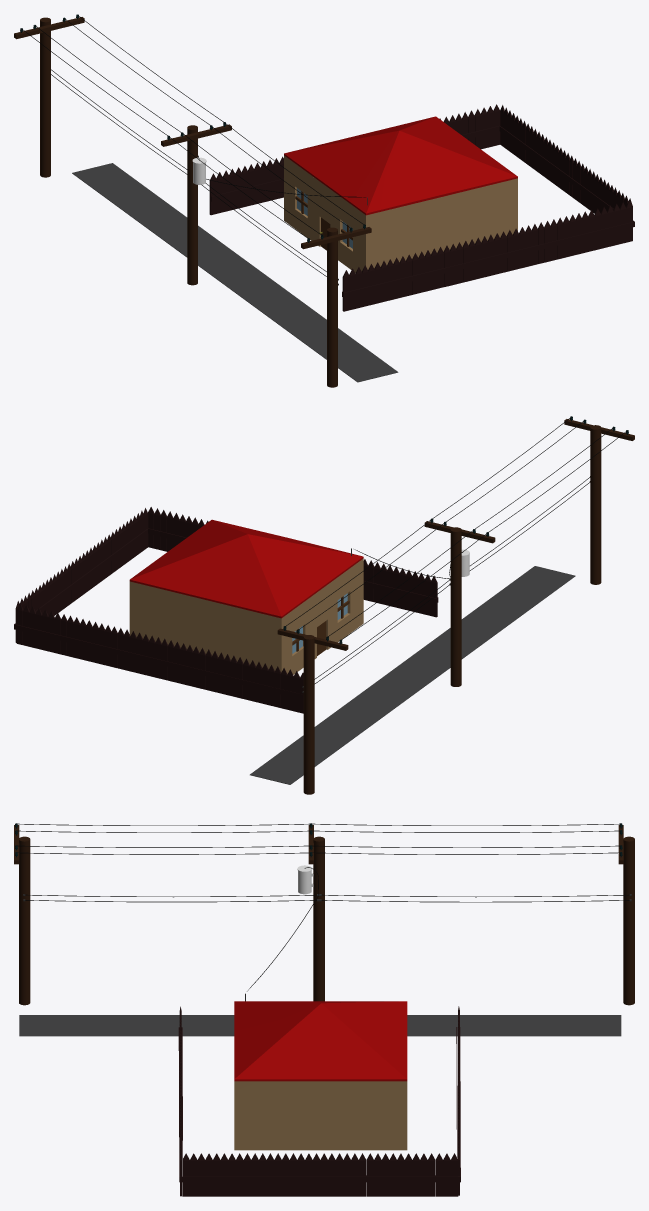
The model's file is House1.fbx.
The picture shows the model from 3 angles, top to bottom: view 1: azimuth 30°, elevation 25°; view 2: azimuth 150°, elevation 25°; view 3: azimuth 270°, elevation 25°; orthographic projection. The views are drawn at different scales.
Visible parts, largest first — view 1: House_Poles; view 2: House_Poles; view 3: House_Poles.
Part boxes in pixels (x1,y1,x2,y2): House_Poles: (14,14,634,387); House_Poles: (14,416,634,794); House_Poles: (14,823,634,1196).
Size of the model in its own units: 19.45 by 7.14 by 24.22.
